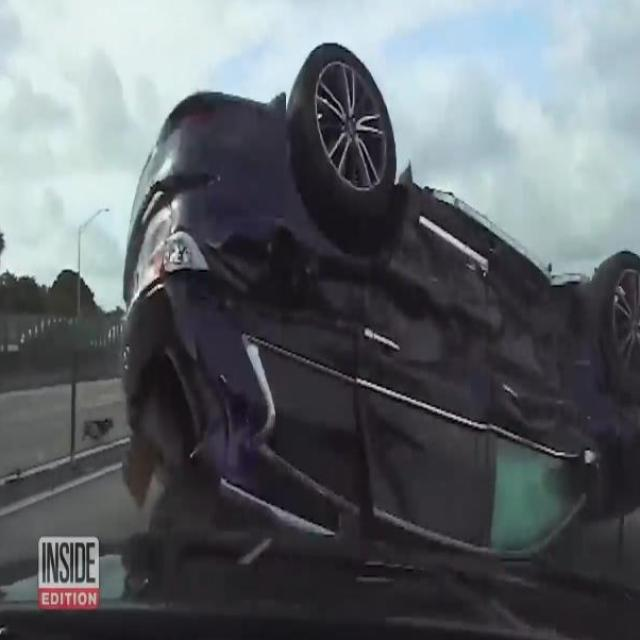accident: (120, 48, 640, 568)
